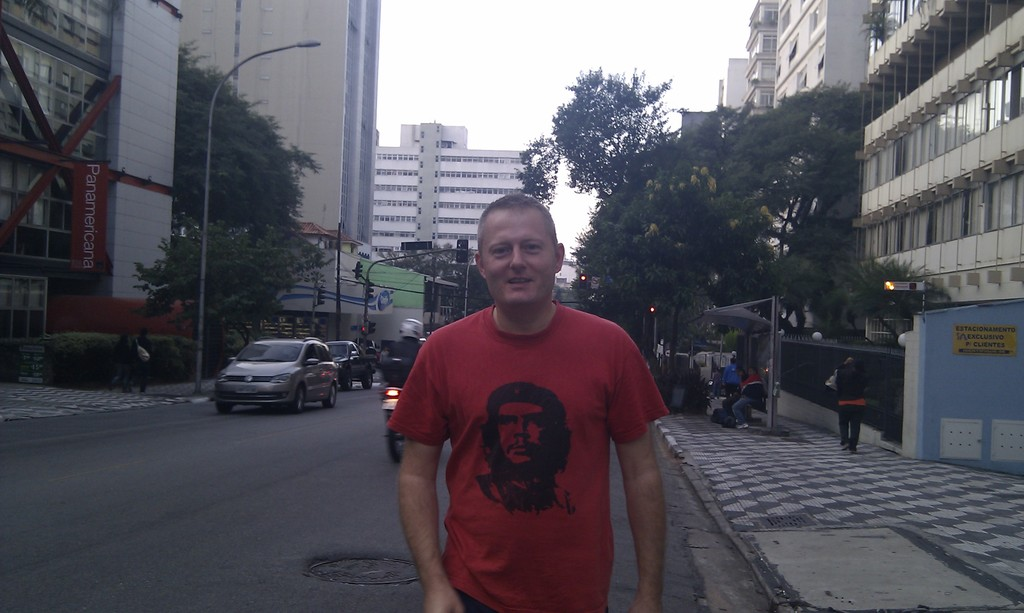cars: (208, 334, 341, 413), (320, 338, 368, 394)
